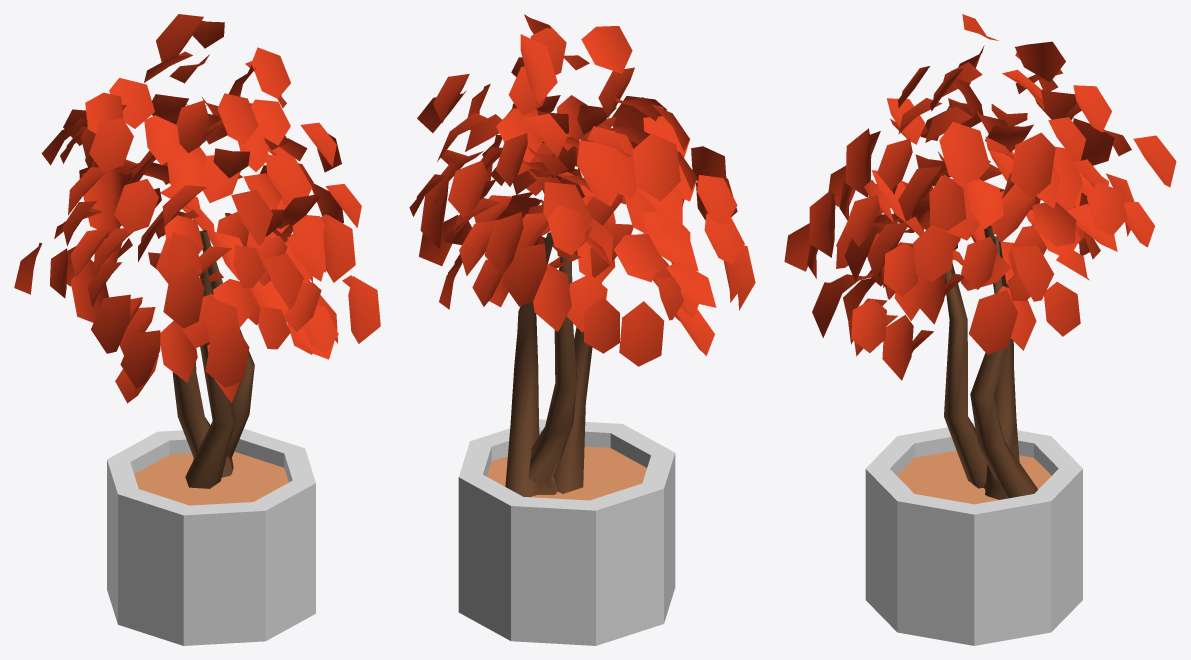
Rendered from plant3.fbx.
The picture shows the model from 3 angles, left to right: view 1: azimuth 30°, elevation 25°; view 2: azimuth 150°, elevation 25°; view 3: azimuth 270°, elevation 25°; orthographic projection. The views are drawn at different scales.
Visible parts, largest first — view 1: low_poly_interior_7161; view 2: low_poly_interior_7161; view 3: low_poly_interior_7161.
Part boxes in pixels (box(x1,y1,x2,y2)): low_poly_interior_7161: box(14, 14, 380, 645); low_poly_interior_7161: box(409, 14, 755, 645); low_poly_interior_7161: box(784, 14, 1176, 645).
Size of the model in its own units: 0.4811 by 0.9232 by 0.581.
